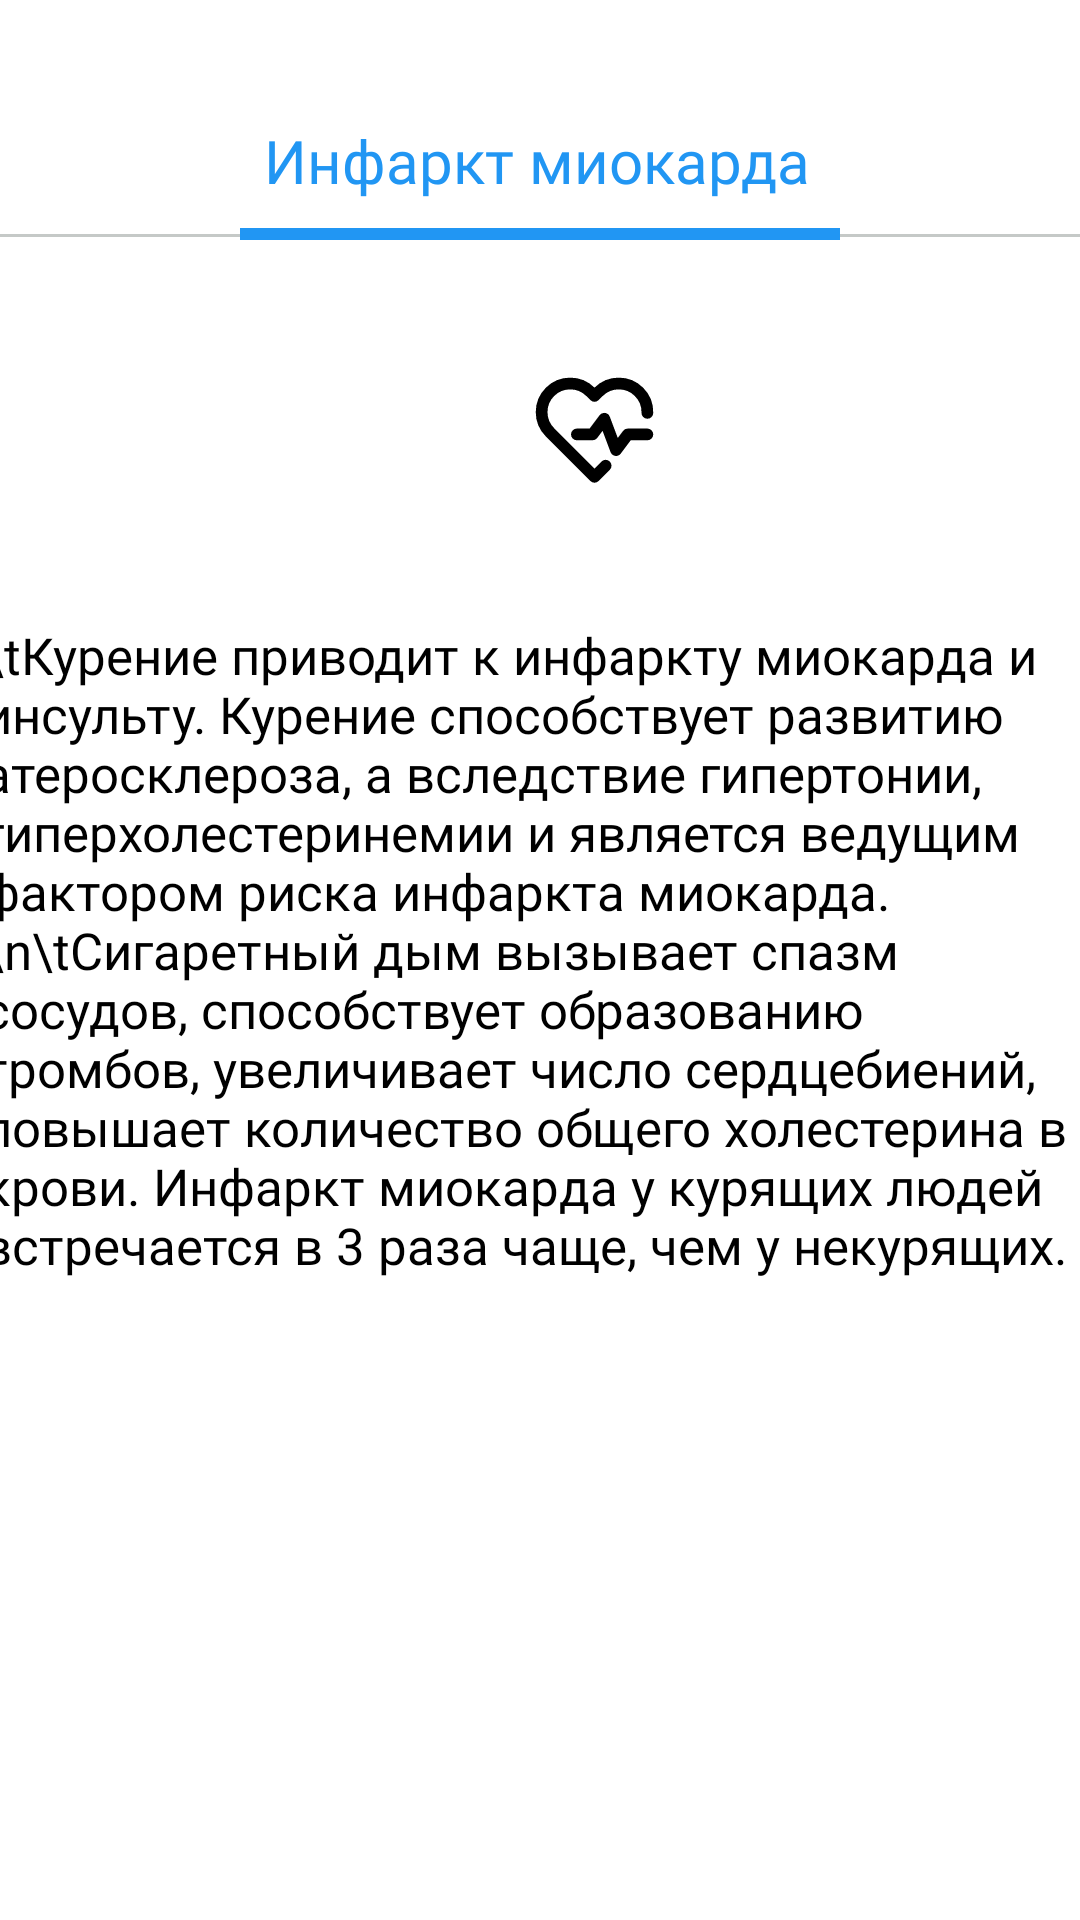

Icon click points for this 1080×1920 phone screenshot, format point (x, y):
heart rate: point (594, 430)
